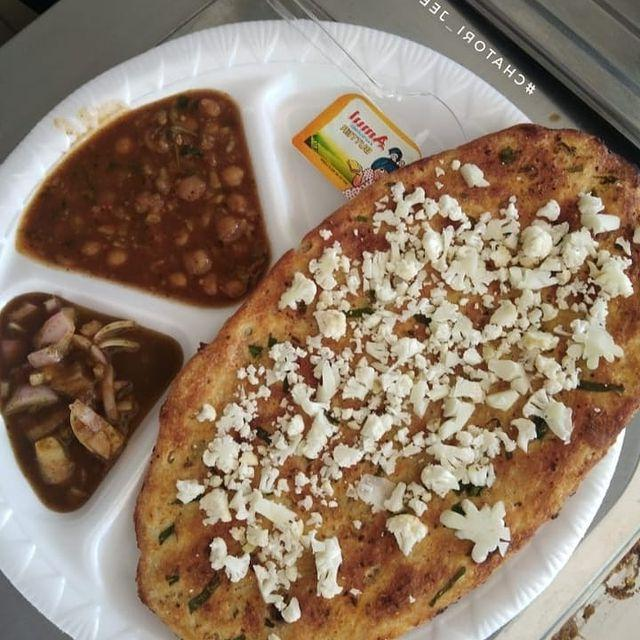Chole: (100, 118, 258, 290)
